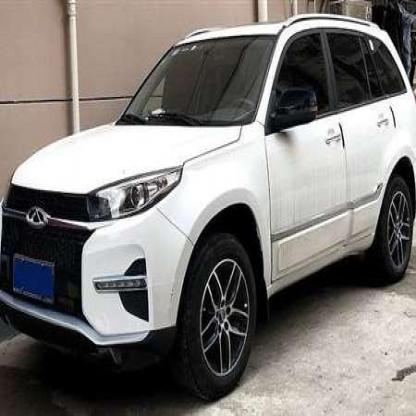Car: (0, 0, 416, 384)
